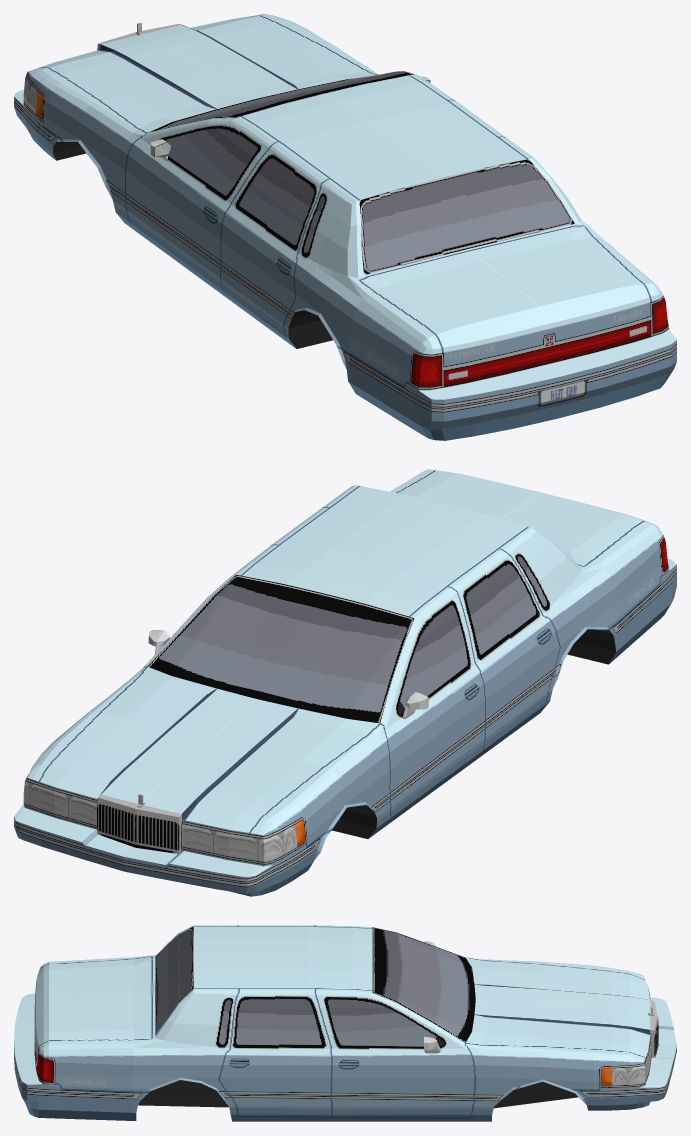
The model's file is 92towncar.fbx.
3 renders of one model, top to bottom at view 1: azimuth 30°, elevation 25°; view 2: azimuth 150°, elevation 25°; view 3: azimuth 270°, elevation 25°, orthographic. The views are drawn at different scales.
Visible parts, largest first — view 1: 92towncar; view 2: 92towncar; view 3: 92towncar.
Part boxes in pixels (x1,y1,x2,y2): 92towncar: [14, 14, 676, 440]; 92towncar: [14, 469, 676, 896]; 92towncar: [14, 925, 676, 1121].
Size of the model in its own units: 1.99 by 1.11 by 5.49.
